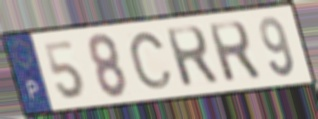5: (41, 39, 86, 102)
8: (85, 31, 130, 99)
9: (258, 14, 295, 79)
C: (127, 30, 175, 91)
R: (205, 18, 264, 85), (163, 23, 222, 89)
